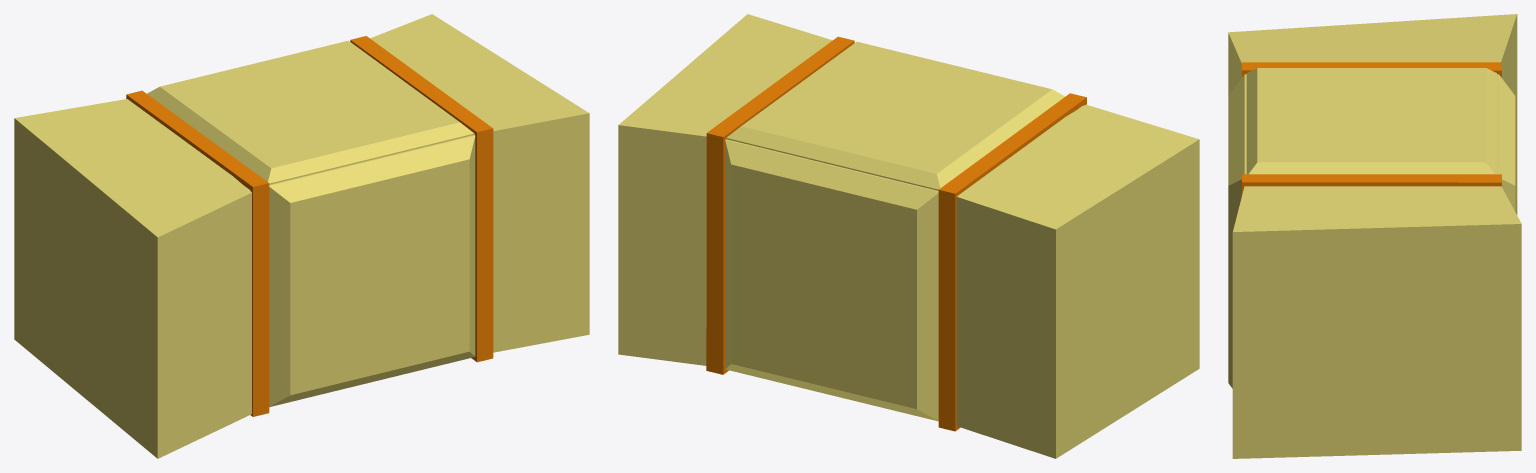
File: haybale.fbx
3 views of the same model, side by side, from view 1: azimuth 30°, elevation 25°; view 2: azimuth 150°, elevation 25°; view 3: azimuth 270°, elevation 25° (orthographic). The views are drawn at different scales.
Visible parts, largest first — view 1: Cube, Plane.001, Plane; view 2: Cube, Plane, Plane.001; view 3: Cube, Plane.001, Plane.
Boxes of the visible parts, x1,y1,x2,y2 form: Cube: (14,14,589,458); Plane.001: (350,36,493,362); Plane: (126,90,269,416); Cube: (618,14,1199,458); Plane: (938,93,1086,431); Plane.001: (706,36,854,374); Cube: (1228,14,1521,458); Plane.001: (1242,174,1501,194); Plane: (1242,62,1501,77).
Size of the model in its own units: 441 by 241 by 251.
